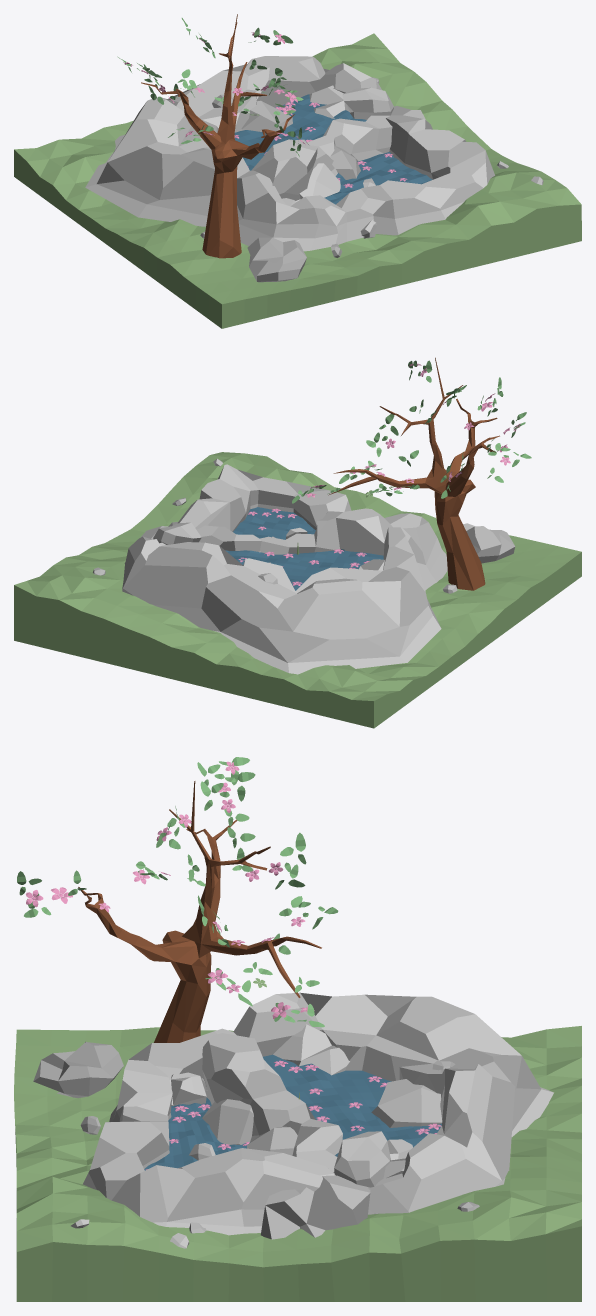
File: Low poly spring scene.glb
The picture shows the model from 3 angles, top to bottom: view 1: azimuth 30°, elevation 25°; view 2: azimuth 150°, elevation 25°; view 3: azimuth 270°, elevation 25°; orthographic projection. The views are drawn at different scales.
Parts seen in each view (by area): view 1: Plane, Cube, Vert, Cube001, Cube003, Plane002, Plane001, Cube002, Cube014, Cube013, Cube009, Cube012; view 2: Plane, Cube, Vert, Cube001, Plane002, Plane001, Cube003, Cube002; view 3: Plane, Cube, Vert, Cube001, Plane002, Cube007, Cube003, Cube014, Plane001, Cube002, Cube008, Cube013 (+3 smaller).
Part boxes in pixels (<box>): Plane: <box>14,33,581,328</box>; Cube: <box>85,56,494,251</box>; Vert: <box>141,14,294,258</box>; Cube001: <box>251,115,392,201</box>; Cube003: <box>247,237,306,282</box>; Plane002: <box>234,94,366,170</box>; Plane001: <box>324,152,432,204</box>; Cube002: <box>342,87,393,119</box>; Cube014: <box>241,100,292,131</box>; Cube013: <box>299,163,340,198</box>; Cube009: <box>309,85,363,118</box>; Cube012: <box>330,146,360,179</box>; Plane: <box>14,452,581,728</box>; Cube: <box>122,464,447,674</box>; Vert: <box>328,357,499,590</box>; Cube001: <box>196,508,392,555</box>; Plane002: <box>225,549,383,590</box>; Plane001: <box>233,507,315,539</box>; Cube003: <box>463,523,515,563</box>; Cube002: <box>153,522,201,544</box>; Plane: <box>14,1026,581,1301</box>; Cube: <box>83,992,553,1235</box>; Vert: <box>78,781,321,1042</box>; Cube001: <box>202,1033,342,1172</box>; Plane002: <box>263,1054,441,1156</box>; Cube007: <box>260,1175,370,1239</box>; Cube003: <box>33,1042,123,1098</box>; Cube014: <box>371,1079,442,1127</box>; Plane001: <box>144,1097,249,1170</box>; Cube002: <box>334,1131,390,1187</box>; Cube008: <box>273,1024,349,1075</box>; Cube013: <box>202,1099,253,1144</box>.
Bounding box in the file's own units: 8.49 × 5.35 × 8.04.
